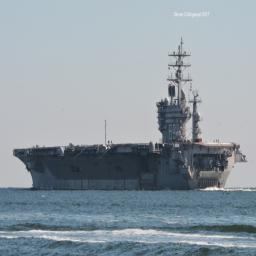Portanaves: (13, 42, 251, 193)
